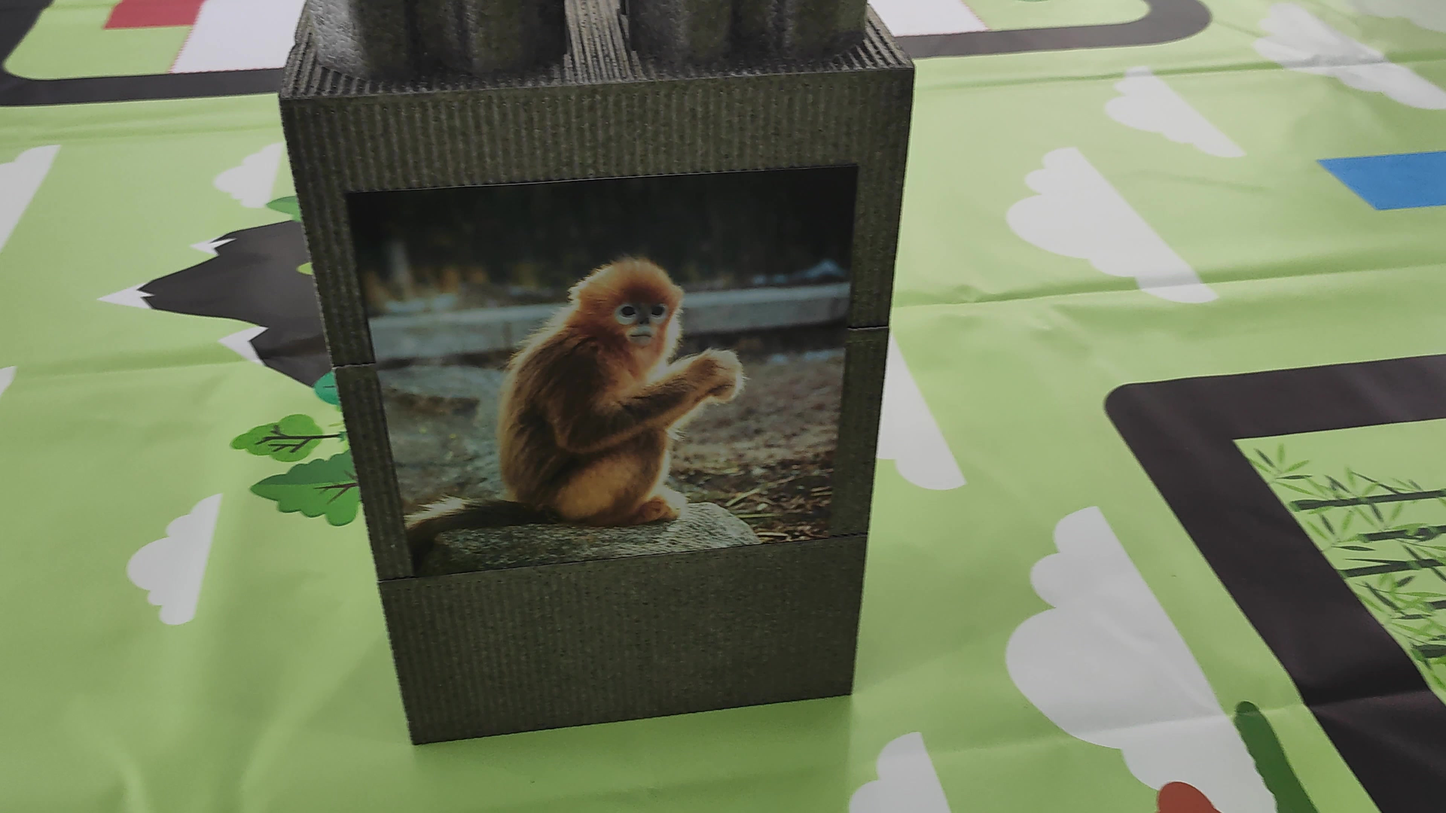monkey: (460, 215, 765, 538)
